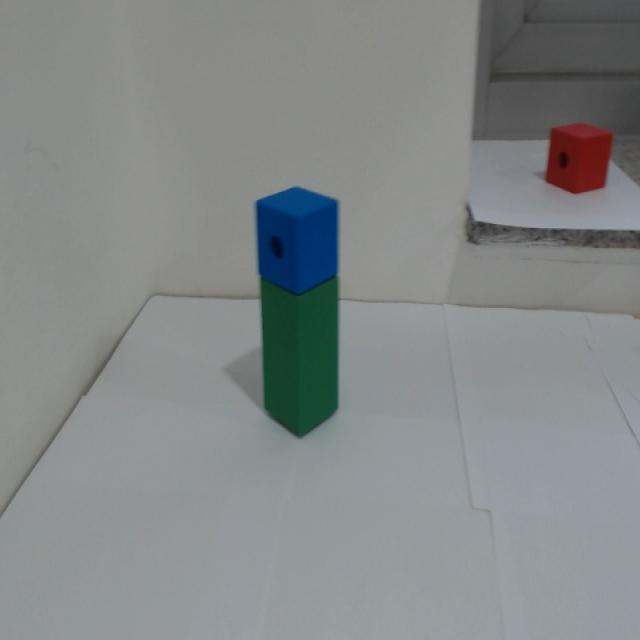cube: (243, 182, 360, 300)
